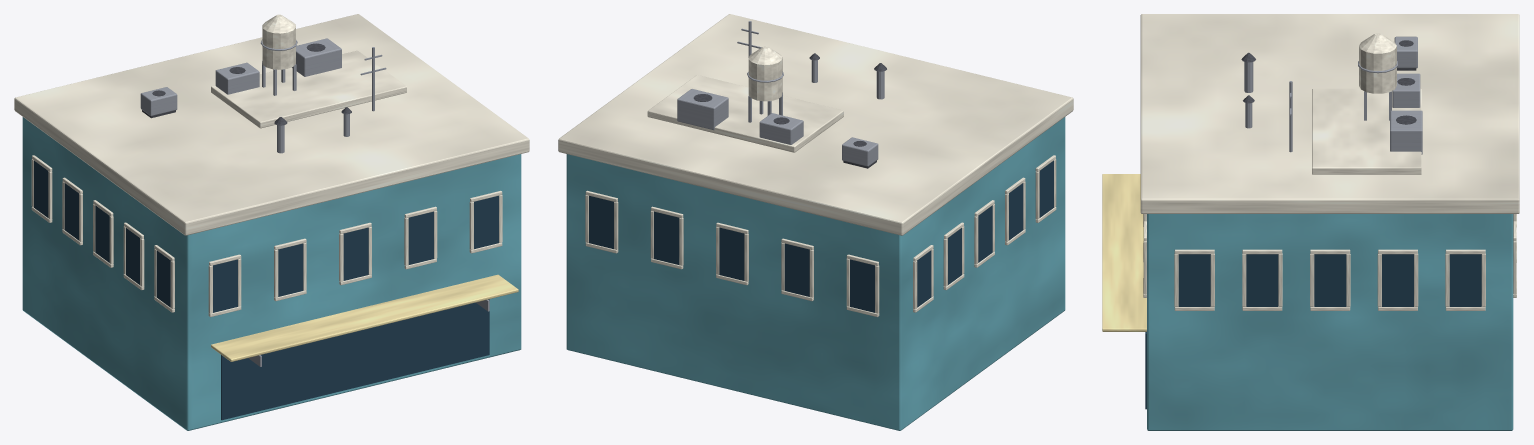
Rendered from bldg_teal_loft.glb.
3 views of the same model, side by side, from view 1: azimuth 30°, elevation 25°; view 2: azimuth 150°, elevation 25°; view 3: azimuth 270°, elevation 25° (orthographic). The views are drawn at different scales.
Visible parts, largest first — view 1: bldg_teal_loft_body, bldg_teal_loft_parapet, bldg_teal_loft_shopfront, bldg_teal_loft_roof_curb, bldg_teal_loft_awning, bldg_teal_loft_ac_2_case, bldg_teal_loft_upper_back_2_glass, bldg_teal_loft_upper_back_1_glass, bldg_teal_loft_upper_back_3_glass, bldg_teal_loft_tank_a_barrel, bldg_teal_loft_upper_back_4_glass, bldg_teal_loft_upper_back_0_glass (+7 smaller); view 2: bldg_teal_loft_body, bldg_teal_loft_parapet, bldg_teal_loft_roof_curb, bldg_teal_loft_ac_2_case, bldg_teal_loft_upper_front_2_glass, bldg_teal_loft_upper_front_1_glass, bldg_teal_loft_upper_front_3_glass, bldg_teal_loft_tank_a_barrel, bldg_teal_loft_upper_front_4_glass, bldg_teal_loft_upper_front_0_glass, bldg_teal_loft_ac_1_case, bldg_teal_loft_ac_0_case (+5 smaller); view 3: bldg_teal_loft_body, bldg_teal_loft_parapet, bldg_teal_loft_roof_curb, bldg_teal_loft_awning, bldg_teal_loft_upper_left_0_glass, bldg_teal_loft_upper_left_1_glass, bldg_teal_loft_upper_left_2_glass, bldg_teal_loft_upper_left_4_glass, bldg_teal_loft_upper_left_3_glass, bldg_teal_loft_tank_a_barrel, bldg_teal_loft_ac_2_case, bldg_teal_loft_ac_1_case (+2 smaller).
Boxes of the visible parts, <box> form: bldg_teal_loft_body: <box>22,117,521,430</box>; bldg_teal_loft_parapet: <box>14,14,529,235</box>; bldg_teal_loft_shopfront: <box>221,299,489,420</box>; bldg_teal_loft_roof_curb: <box>211,50,406,128</box>; bldg_teal_loft_awning: <box>211,274,518,361</box>; bldg_teal_loft_ac_2_case: <box>292,38,341,76</box>; bldg_teal_loft_upper_back_2_glass: <box>343,227,368,280</box>; bldg_teal_loft_upper_back_1_glass: <box>278,243,303,296</box>; bldg_teal_loft_upper_back_3_glass: <box>408,211,433,264</box>; bldg_teal_loft_tank_a_barrel: <box>262,26,295,69</box>; bldg_teal_loft_upper_back_4_glass: <box>474,196,498,249</box>; bldg_teal_loft_upper_back_0_glass: <box>213,259,237,312</box>; bldg_teal_loft_body: <box>566,117,1065,430</box>; bldg_teal_loft_parapet: <box>558,14,1073,235</box>; bldg_teal_loft_roof_curb: <box>647,75,843,152</box>; bldg_teal_loft_ac_2_case: <box>677,89,728,130</box>; bldg_teal_loft_upper_front_2_glass: <box>719,227,744,280</box>; bldg_teal_loft_upper_front_1_glass: <box>784,243,809,296</box>; bldg_teal_loft_upper_front_3_glass: <box>654,211,679,264</box>; bldg_teal_loft_tank_a_barrel: <box>748,57,782,101</box>; bldg_teal_loft_upper_front_4_glass: <box>589,196,613,249</box>; bldg_teal_loft_upper_front_0_glass: <box>850,259,874,312</box>; bldg_teal_loft_ac_1_case: <box>759,113,803,144</box>; bldg_teal_loft_ac_0_case: <box>842,137,878,166</box>; bldg_teal_loft_body: <box>1147,214,1513,430</box>; bldg_teal_loft_parapet: <box>1140,14,1519,213</box>; bldg_teal_loft_roof_curb: <box>1312,88,1421,174</box>; bldg_teal_loft_awning: <box>1102,174,1146,331</box>; bldg_teal_loft_upper_left_0_glass: <box>1178,254,1210,306</box>; bldg_teal_loft_upper_left_1_glass: <box>1246,254,1278,306</box>; bldg_teal_loft_upper_left_2_glass: <box>1314,254,1346,306</box>; bldg_teal_loft_upper_left_4_glass: <box>1449,254,1481,306</box>; bldg_teal_loft_upper_left_3_glass: <box>1382,254,1413,306</box>; bldg_teal_loft_tank_a_barrel: <box>1359,46,1396,93</box>; bldg_teal_loft_ac_2_case: <box>1390,110,1422,154</box>; bldg_teal_loft_ac_1_case: <box>1392,73,1420,107</box>.
Size of the model in its own units: 14.42 by 11.66 by 13.68.
6 materials, 6 textured.
